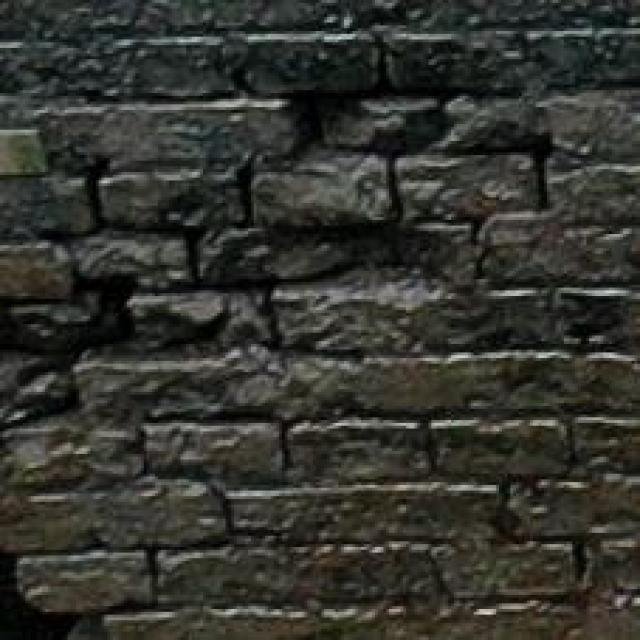Crack: (0, 41, 594, 479)
